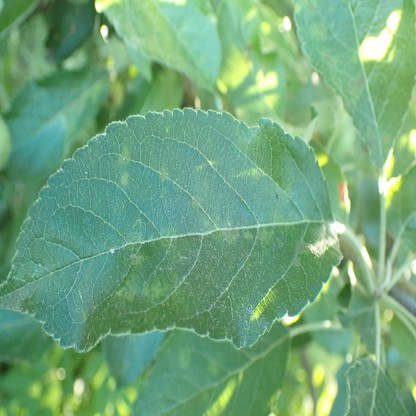powdery_mildew: (173, 234, 263, 340)
scab: (143, 279, 165, 301), (291, 241, 308, 266), (349, 73, 365, 99), (349, 389, 365, 414), (117, 281, 134, 304), (160, 226, 174, 246), (312, 23, 326, 40), (321, 51, 334, 69), (223, 230, 238, 245), (304, 0, 318, 15), (131, 253, 144, 267), (159, 164, 168, 181), (120, 173, 129, 188), (119, 146, 128, 161), (192, 195, 201, 210), (244, 230, 254, 242)
